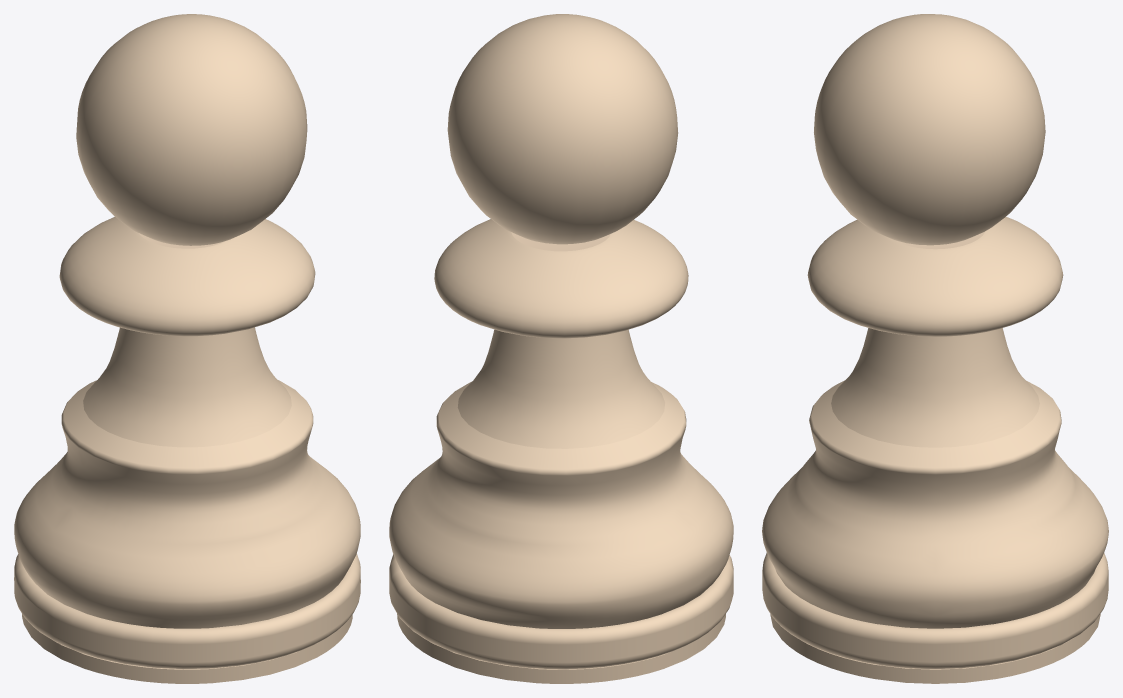
Rendered from PawnSilver.fbx.
The picture shows the model from 3 angles, left to right: view 1: azimuth 30°, elevation 25°; view 2: azimuth 150°, elevation 25°; view 3: azimuth 270°, elevation 25°; orthographic projection.
Visible parts, largest first — view 1: Пешка (2); view 2: Пешка (2); view 3: Пешка (2).
Boxes of the visible parts, left/top/right/bottom form: Пешка (2): left=14, top=14, right=360, bottom=683; Пешка (2): left=389, top=14, right=733, bottom=683; Пешка (2): left=762, top=14, right=1108, bottom=683.
Bounding box in the file's own units: 16.19 × 30.43 × 16.21.
